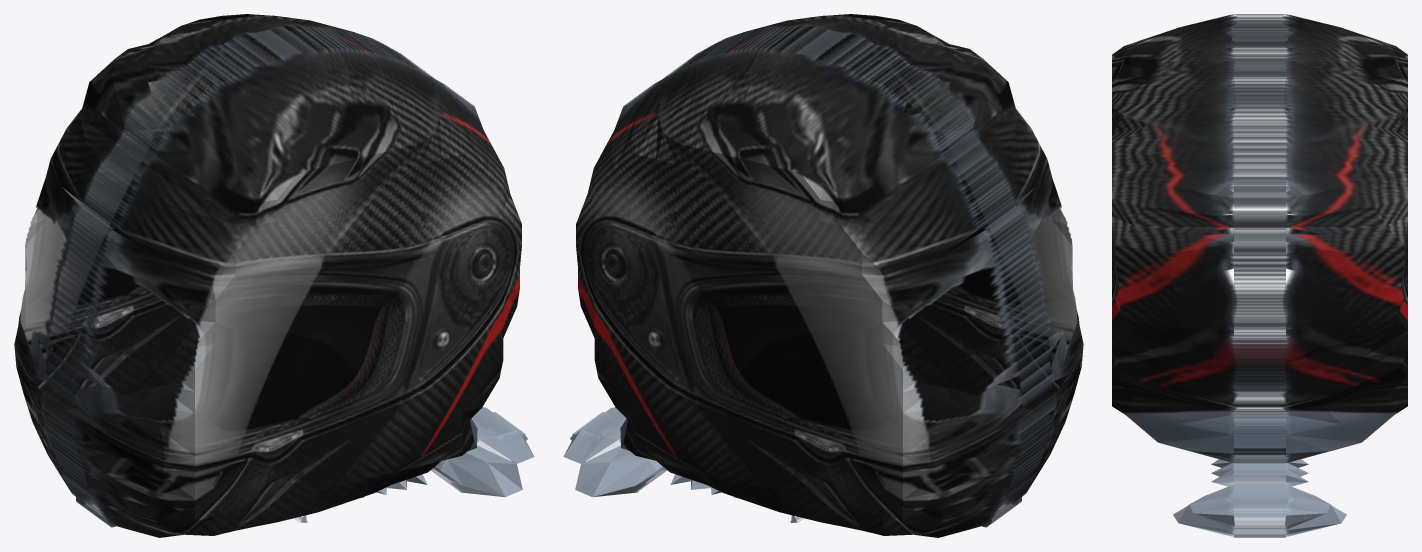
Rendered from dainese-horizon-urban-helmet-078.glb.
The picture shows the model from 3 angles, left to right: view 1: azimuth 30°, elevation 25°; view 2: azimuth 150°, elevation 25°; view 3: azimuth 270°, elevation 25°; orthographic projection. The views are drawn at different scales.
Visible parts, largest first — view 1: world; view 2: world; view 3: world.
Part boxes in pixels (box(x1,y1,x2,y2)): world: box(14, 14, 534, 537); world: box(563, 14, 1083, 537); world: box(1112, 14, 1407, 537).
Bounding box in the file's own units: 0.9881 × 1 × 0.64.
1 material, 1 textured.
